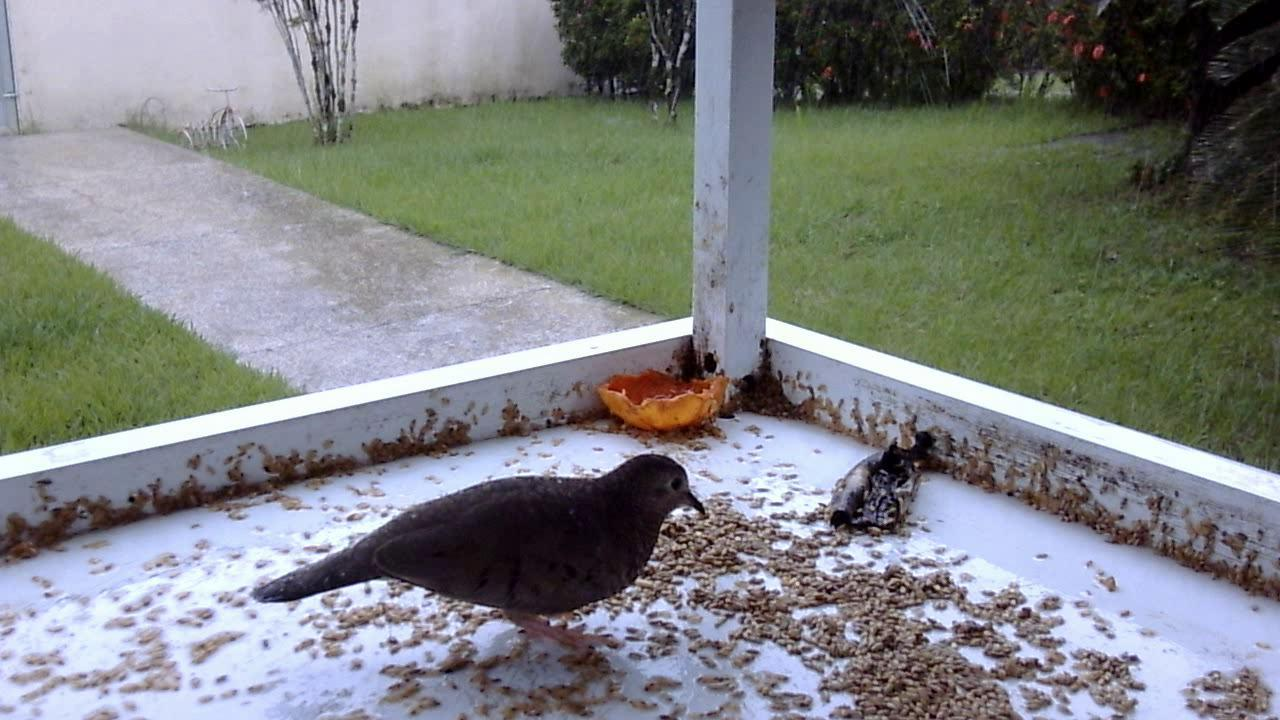rolinha: (247, 436, 710, 677)
